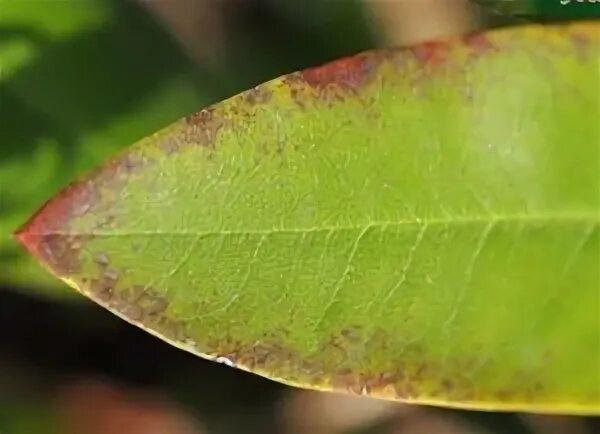late_blight: (14, 154, 139, 277), (280, 41, 449, 101), (173, 104, 223, 145), (459, 35, 490, 52), (241, 86, 265, 107)
